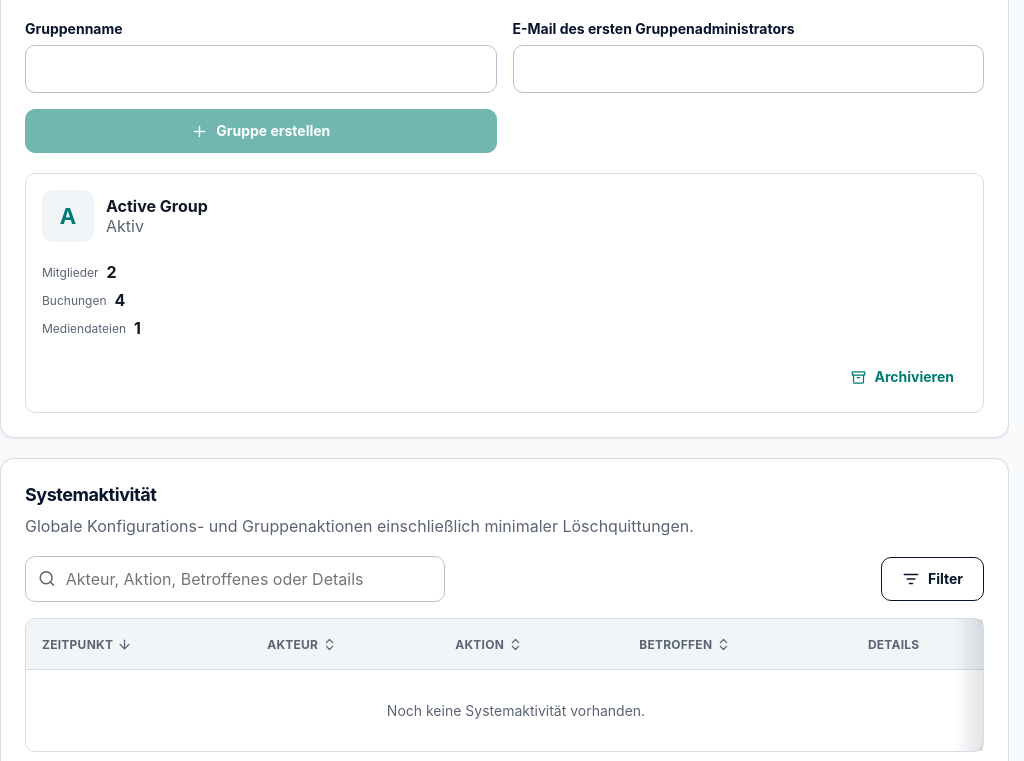
Test: SystemSettingsPanel › archives a group only after confirming in the shared application dialog
(page scrolled)
Click the button with aria-label "Gruppe Active Group archivieren" at coordinates (903, 377), box left=838, top=358, right=967, bottom=396
(page scrolled)
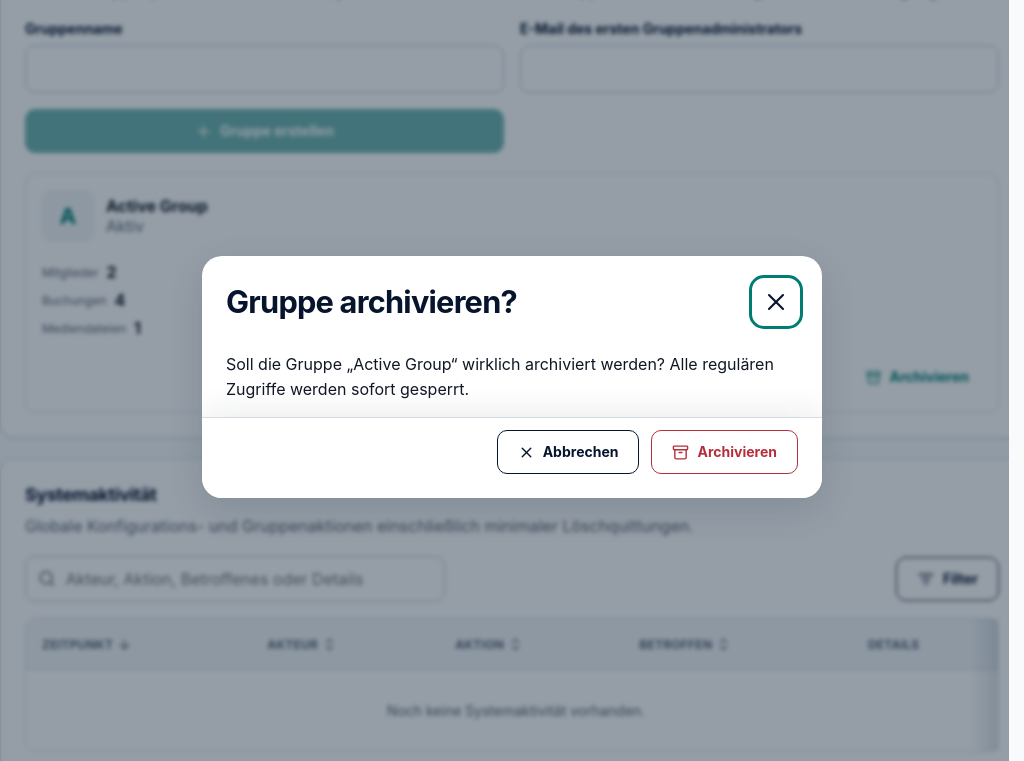
Check: the text "Soll die Gruppe „Active Group“ wirklich archiviert werden? Alle regulären Zugriffe werden sofort gesperrt." is shown, box left=226, top=354, right=774, bottom=398
Click the button "Archivieren" at coordinates (725, 452), box left=652, top=430, right=798, bottom=474
(page scrolled)
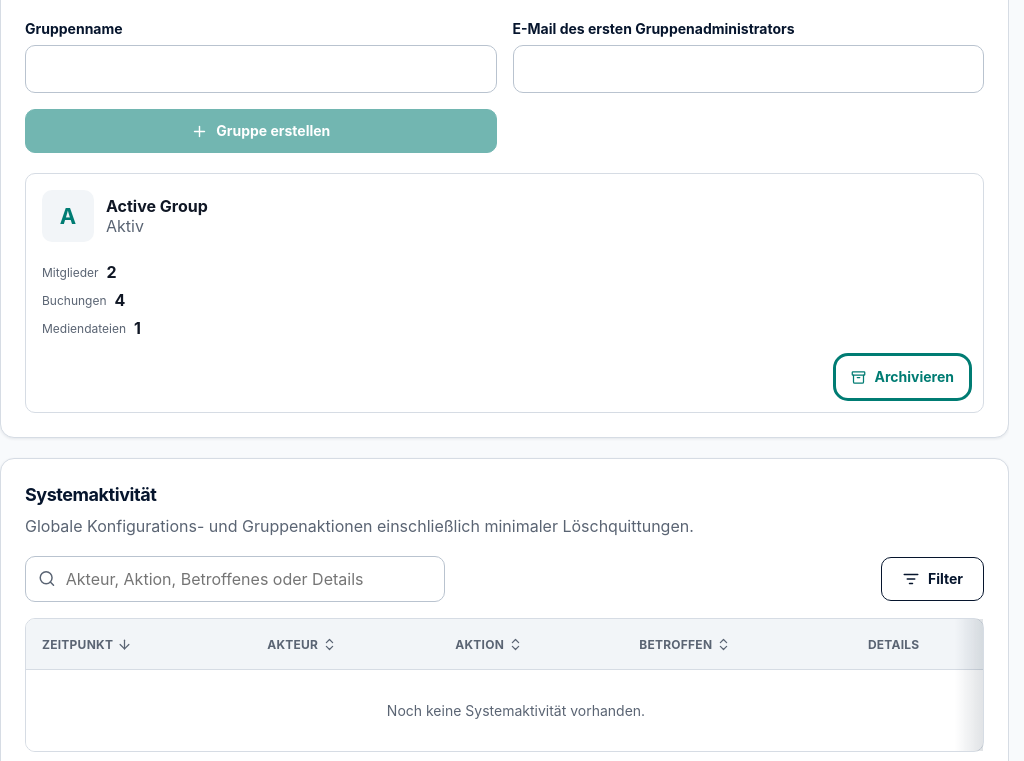
Check: the heading "Gruppe archivieren?" is gone
